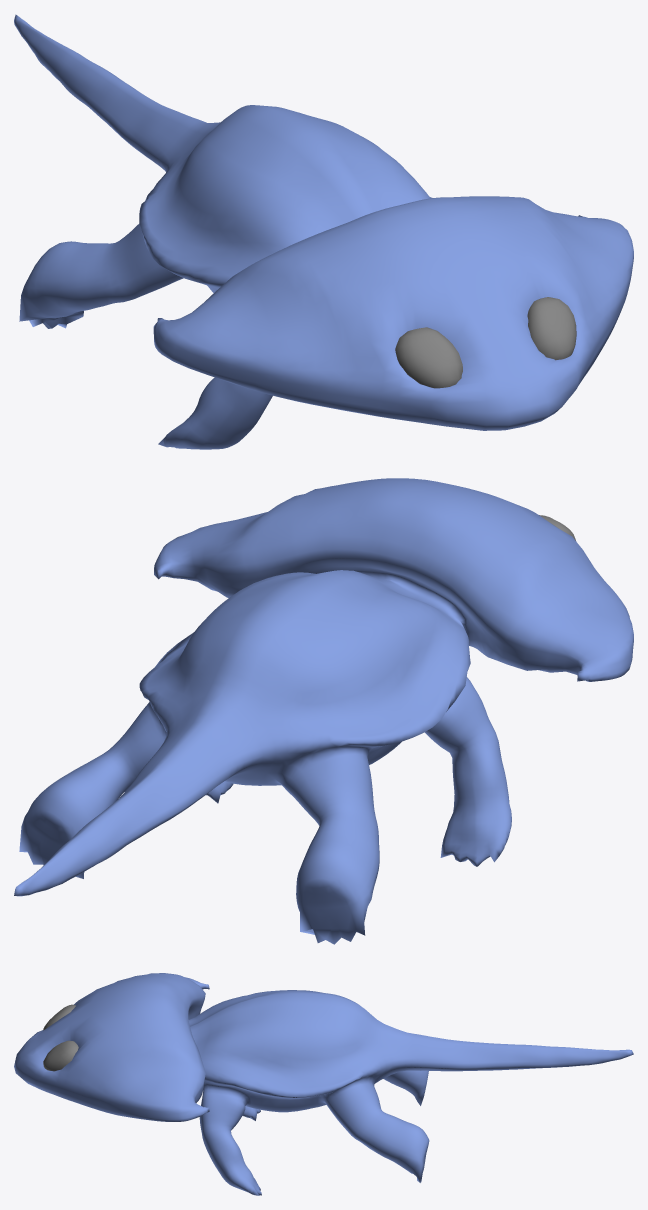
Rendered from SK_Player_03.2.fbx.
The picture shows the model from 3 angles, top to bottom: view 1: azimuth 30°, elevation 25°; view 2: azimuth 150°, elevation 25°; view 3: azimuth 270°, elevation 25°; orthographic projection. The views are drawn at different scales.
Visible parts, largest first — view 1: Diplocaulus2_low, yeux_low; view 2: Diplocaulus2_low; view 3: Diplocaulus2_low, yeux_low.
Part boxes in pixels (x1,y1,x2,y2): Diplocaulus2_low: [14, 14, 633, 449]; yeux_low: [395, 297, 576, 388]; Diplocaulus2_low: [14, 478, 633, 944]; Diplocaulus2_low: [14, 973, 633, 1195]; yeux_low: [43, 1004, 78, 1071].
Size of the model in its own units: 54.42 by 30.62 by 105.
